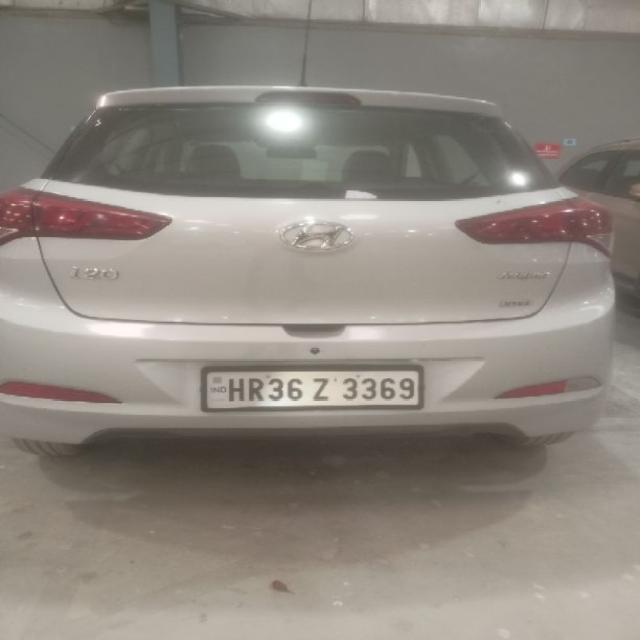license_plate: (200, 363, 424, 411)
